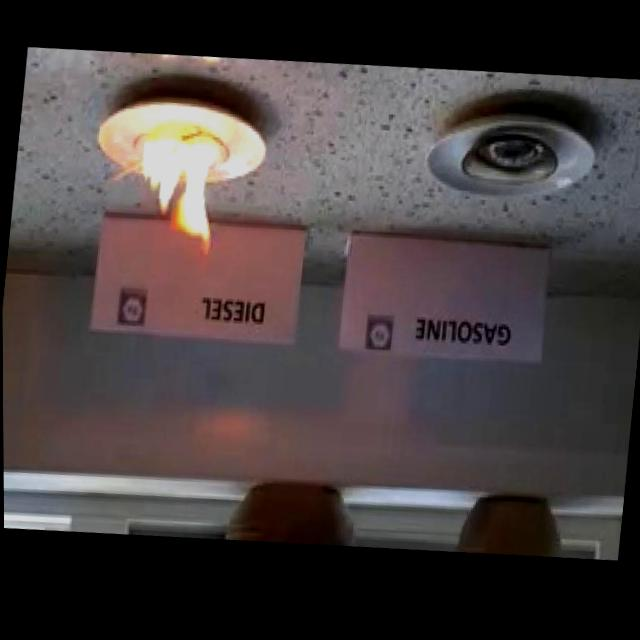helmet: (130, 123, 226, 256)
